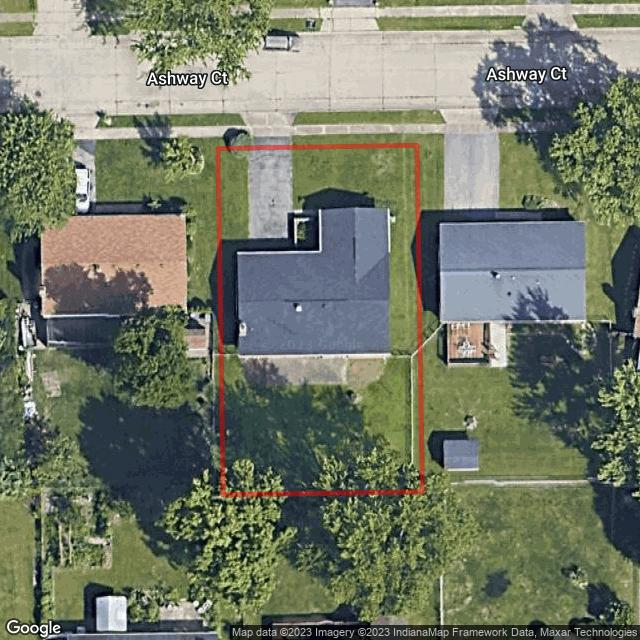Driveway: (249, 150, 292, 237), (249, 151, 292, 237)
Extra Driveway: (245, 111, 293, 145)
Extra Lawn: (292, 108, 419, 126), (219, 113, 243, 129)
Extra Sidewalk: (290, 120, 419, 135)
House: (238, 210, 389, 355)
Other: (294, 216, 310, 244)
Sidewalk: (240, 354, 389, 387)
